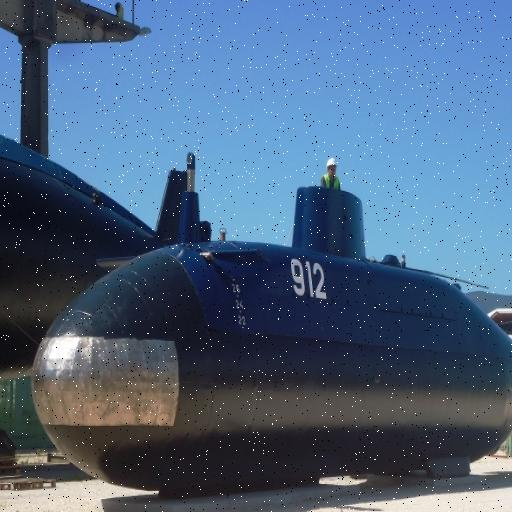submarine: (30, 187, 512, 500), (1, 111, 213, 379)
